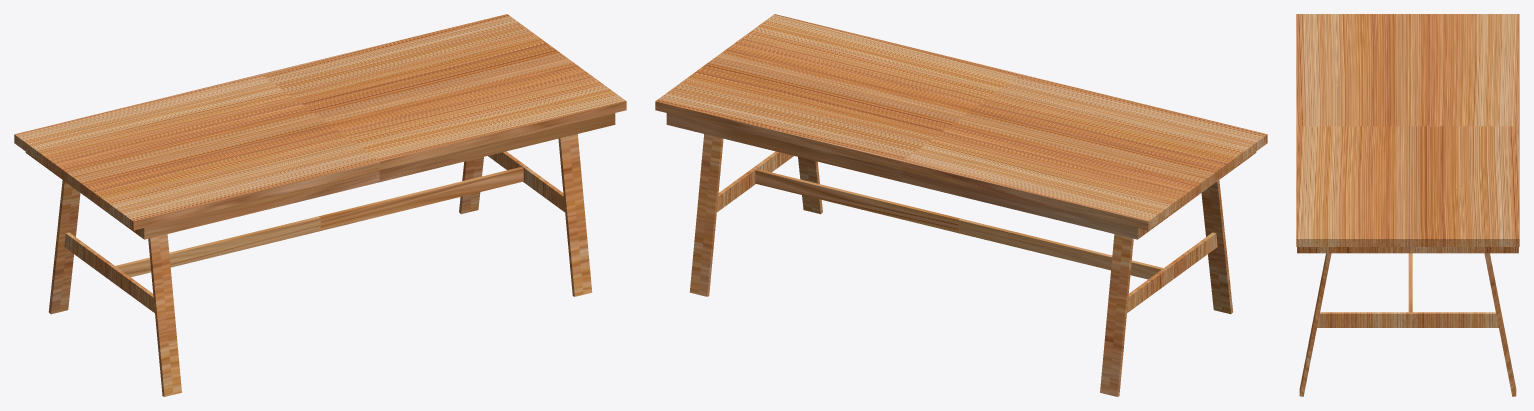
The model's file is СтолОкта.glb.
The picture shows the model from 3 angles, left to right: view 1: azimuth 30°, elevation 25°; view 2: azimuth 150°, elevation 25°; view 3: azimuth 270°, elevation 25°; orthographic projection. The views are drawn at different scales.
Visible parts, largest first — view 1: frame; view 2: frame; view 3: frame.
Part boxes in pixels (x1=…): frame: x1=14, y1=14, x2=626, y2=396; frame: x1=655, y1=14, x2=1267, y2=396; frame: x1=1296, y1=14, x2=1519, y2=396.
Size of the model in its own units: 4.77 by 1.71 by 2.
1 material, 1 textured.
